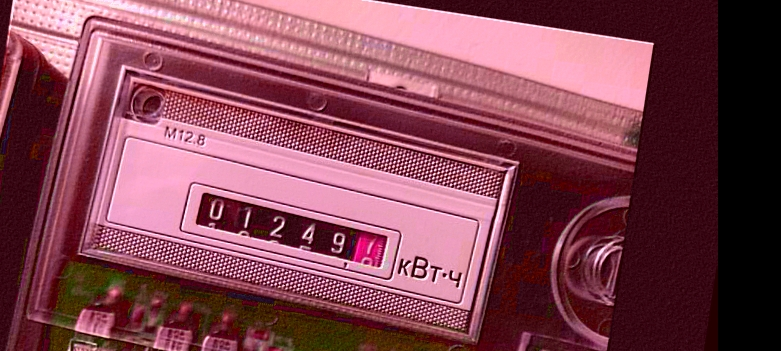0: (207, 195, 227, 223)
1: (238, 203, 256, 231)
2: (267, 213, 287, 242)
4: (299, 219, 319, 246)
7: (362, 230, 381, 258)
9: (327, 229, 348, 257)
screen: (175, 179, 407, 285)
